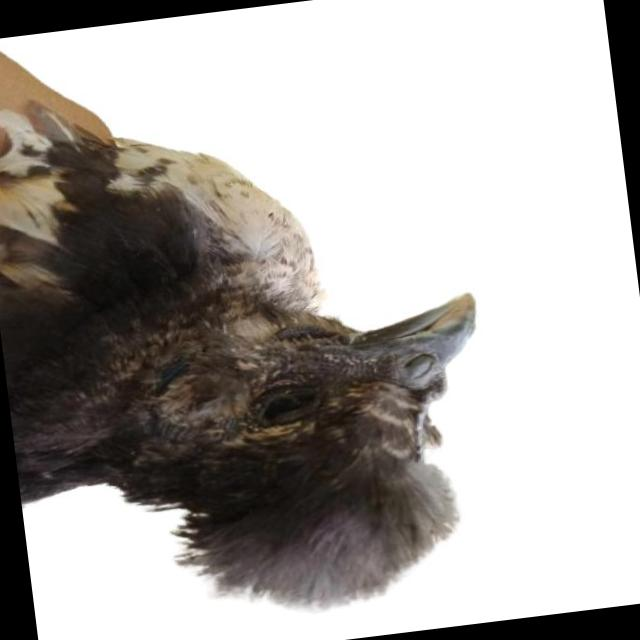Coryza: (202, 344, 370, 467)
